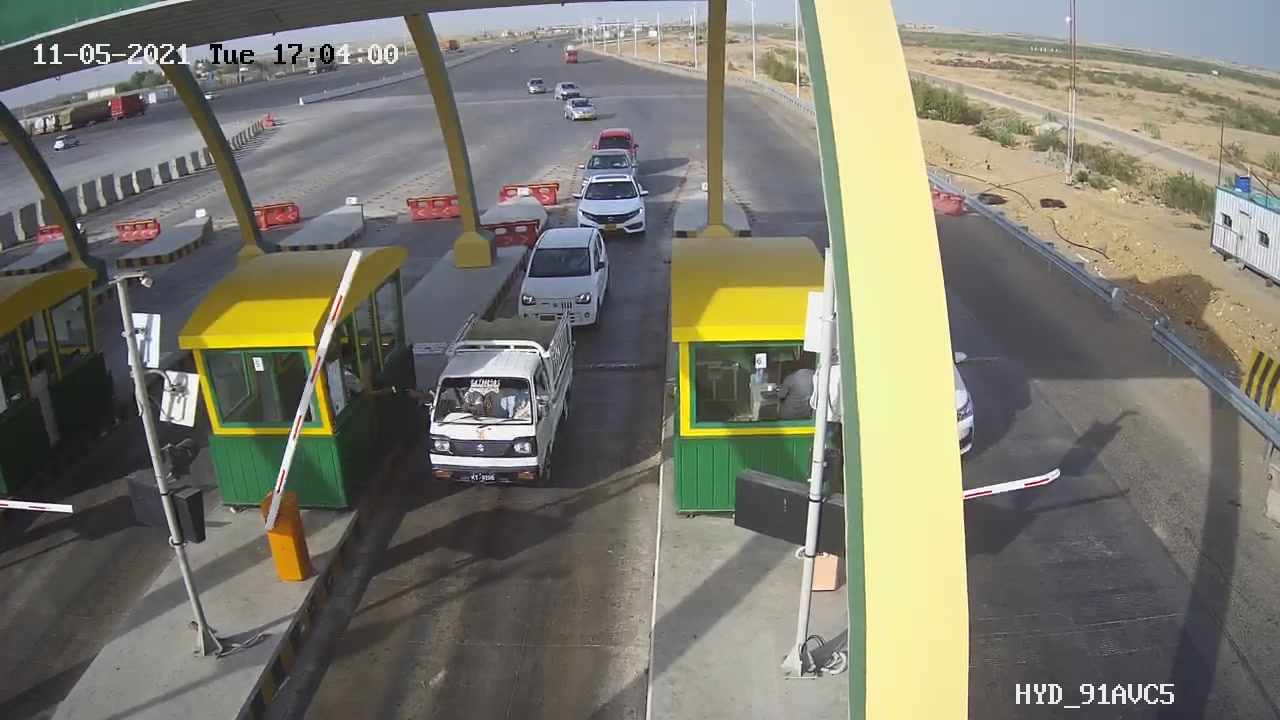F1: (418, 308, 587, 496), (507, 217, 622, 344), (565, 165, 657, 251)
